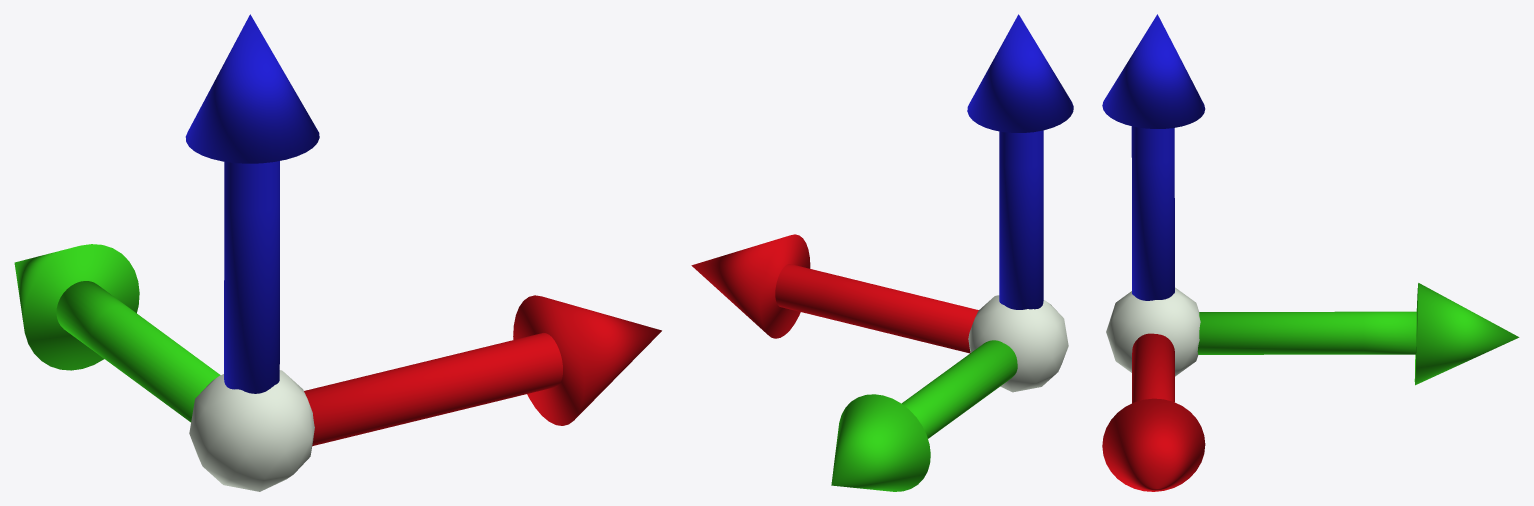
The model's file is Axis.fbx.
3 views of the same model, side by side, from view 1: azimuth 30°, elevation 25°; view 2: azimuth 150°, elevation 25°; view 3: azimuth 270°, elevation 25° (orthographic). The views are drawn at different scales.
Parts seen in each view (by area): view 1: Cylinder; view 2: Cylinder; view 3: Cylinder.
Part boxes in pixels (x1=…): Cylinder: x1=14, y1=14, x2=661, y2=491; Cylinder: x1=691, y1=14, x2=1073, y2=491; Cylinder: x1=1102, y1=14, x2=1519, y2=491.
Bounding box in the file's own units: 158 × 153 × 158.
